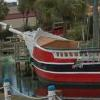Boat: (13, 22, 100, 96)
